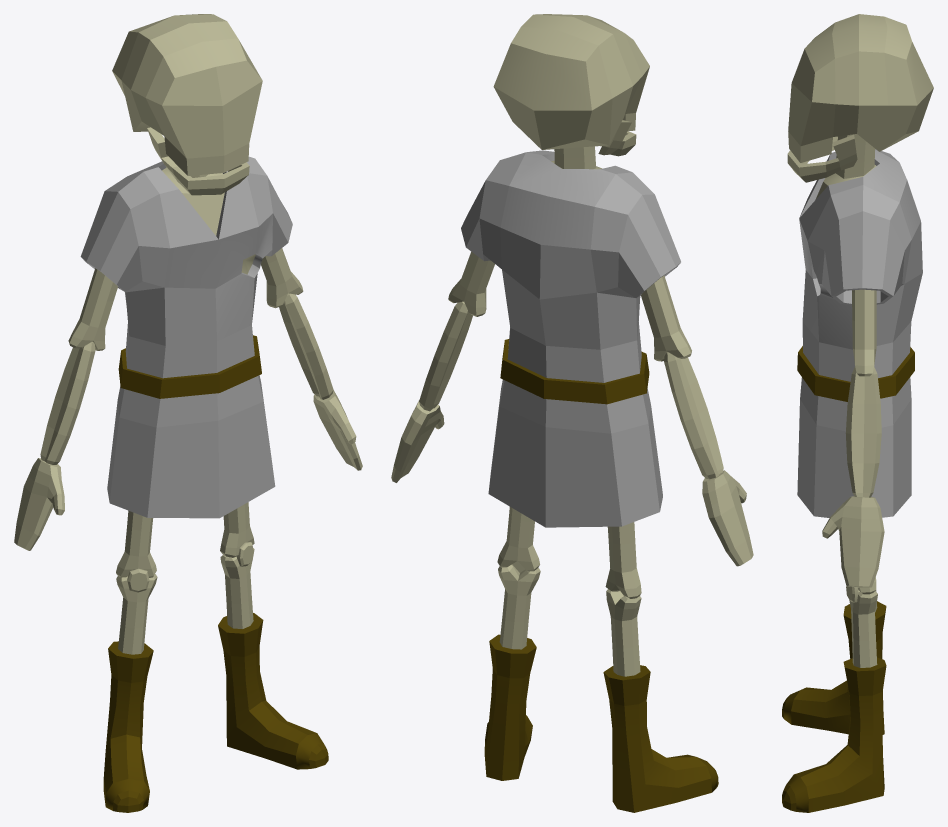
File: SkeletonMesh.fbx
3 views of the same model, side by side, from view 1: azimuth 30°, elevation 25°; view 2: azimuth 150°, elevation 25°; view 3: azimuth 270°, elevation 25° (orthographic). The views are drawn at different scales.
Parts seen in each view (by area): view 1: Torso, Skull, R_Foot, L_Foot, L_Arm, L_Hand, R_Arm, L_Up_Arm, Jaw, L_Leg, R_Hand, R_Up_Arm (+1 smaller); view 2: Torso, Skull, L_Foot, R_Foot, L_Arm, L_Hand, R_Arm, L_Up_Arm, L_Leg, R_Hand, R_Leg, R_Up_Arm (+1 smaller); view 3: Torso, Skull, R_Foot, R_Arm, R_Hand, L_Foot, R_Up_Arm, Jaw.
Part boxes in pixels (left/top/right/bottom): Torso: left=80, top=156, right=292, bottom=518; Skull: left=112, top=14, right=262, bottom=175; R_Foot: left=218, top=548, right=328, bottom=769; L_Foot: left=103, top=574, right=157, bottom=812; L_Arm: left=40, top=341, right=95, bottom=464; L_Hand: left=14, top=458, right=64, bottom=550; R_Arm: left=279, top=293, right=333, bottom=399; L_Up_Arm: left=68, top=268, right=117, bottom=350; Jaw: left=147, top=127, right=249, bottom=195; L_Leg: left=116, top=510, right=156, bottom=577; R_Hand: left=313, top=390, right=362, bottom=470; R_Up_Arm: left=261, top=248, right=303, bottom=308; Torso: left=461, top=146, right=680, bottom=527; Skull: left=493, top=14, right=649, bottom=149; L_Foot: left=603, top=589, right=718, bottom=812; R_Foot: left=484, top=564, right=540, bottom=780; L_Arm: left=664, top=352, right=723, bottom=479; L_Hand: left=702, top=470, right=753, bottom=566; R_Arm: left=419, top=301, right=472, bottom=411; L_Up_Arm: left=641, top=275, right=691, bottom=361; L_Leg: left=605, top=522, right=641, bottom=598; R_Hand: left=391, top=400, right=444, bottom=482; R_Leg: left=497, top=507, right=539, bottom=571; R_Up_Arm: left=448, top=251, right=494, bottom=316; Torso: left=797, top=134, right=922, bottom=517; Skull: left=788, top=14, right=933, bottom=162; R_Foot: left=782, top=590, right=886, bottom=812; R_Arm: left=845, top=366, right=881, bottom=497; R_Hand: left=822, top=496, right=884, bottom=587; L_Foot: left=782, top=590, right=886, bottom=734; R_Up_Arm: left=852, top=289, right=876, bottom=376; Jaw: left=787, top=134, right=857, bottom=182.
Bounding box in the file's own units: 11.14 × 22.91 × 4.29.
